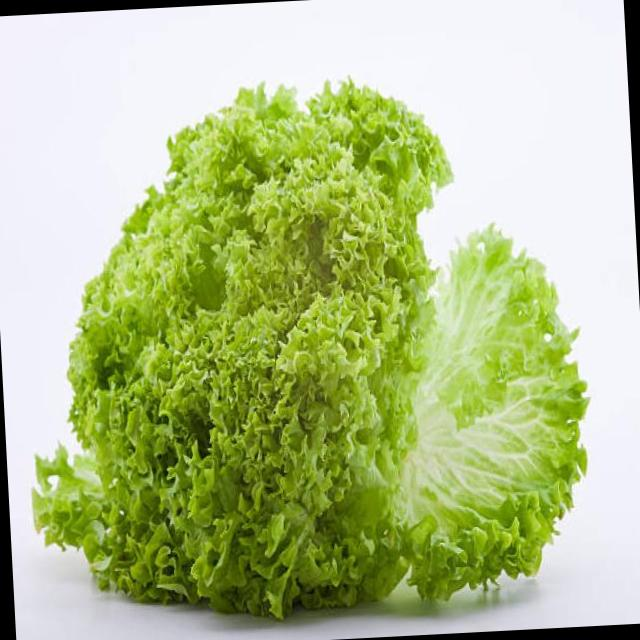Lettuce-Ready-to-Harvest: (34, 83, 587, 617)
